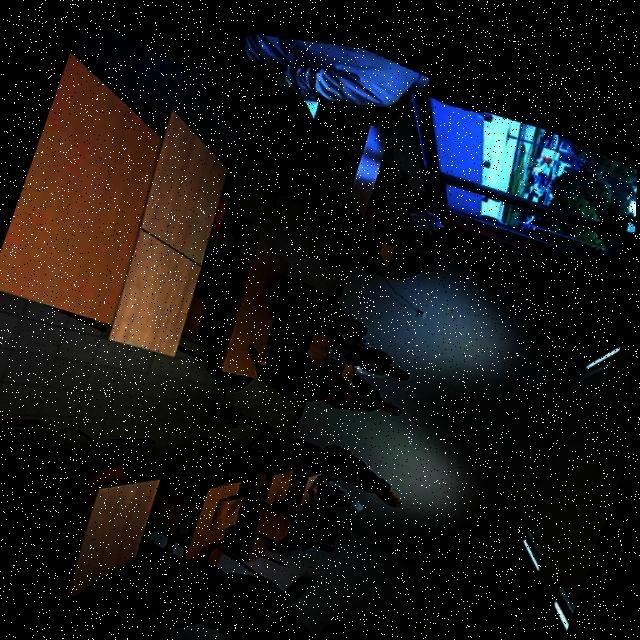phone_use: (254, 319, 359, 407), (298, 483, 362, 546)
